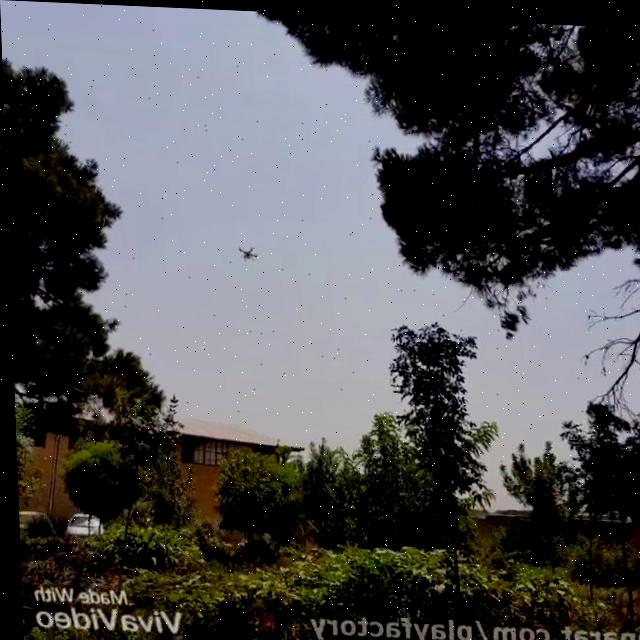drone: (233, 238, 261, 263)
